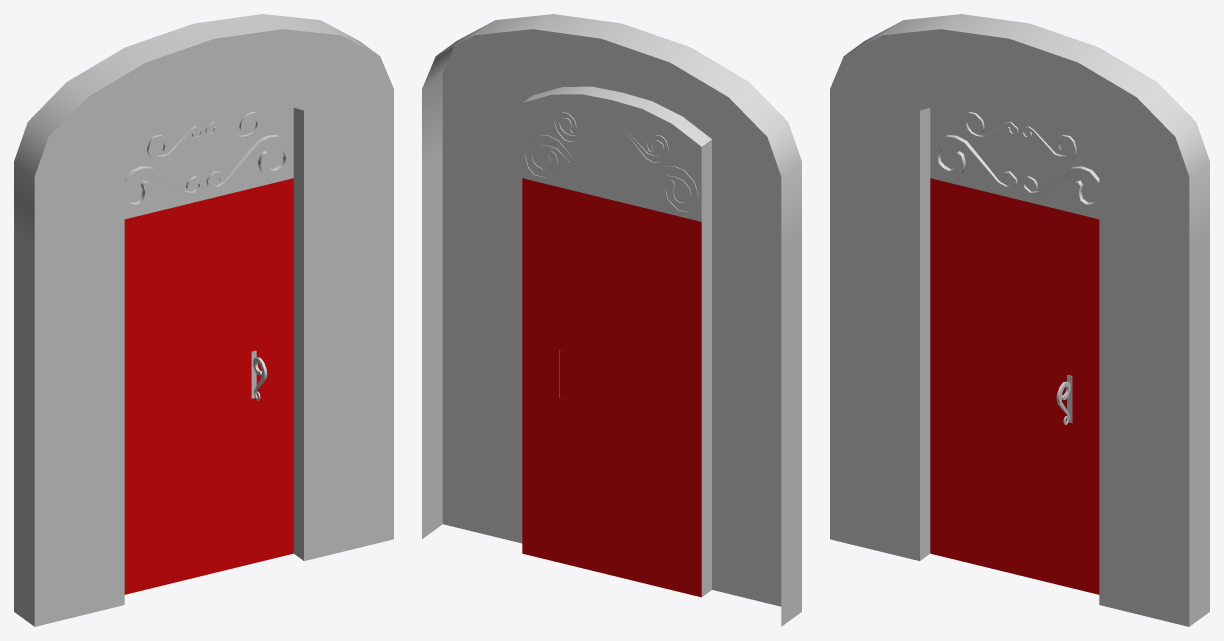
The model's file is Door3.fbx.
3 renders of one model, left to right at view 1: azimuth 30°, elevation 25°; view 2: azimuth 150°, elevation 25°; view 3: azimuth 330°, elevation 25°, orthographic.
Visible parts, largest first — view 1: Door3_LOD0, Door3_LOD0.001; view 2: Door3_LOD0, Door3_LOD0.001; view 3: Door3_LOD0, Door3_LOD0.001.
Boxes of the visible parts, bbox=[...] form: Door3_LOD0: bbox=[14, 14, 393, 626]; Door3_LOD0.001: bbox=[124, 178, 293, 594]; Door3_LOD0: bbox=[422, 14, 801, 626]; Door3_LOD0.001: bbox=[522, 178, 701, 597]; Door3_LOD0: bbox=[830, 14, 1209, 626]; Door3_LOD0.001: bbox=[930, 178, 1099, 594].
Size of the model in its own units: 200 by 290 by 21.65.
